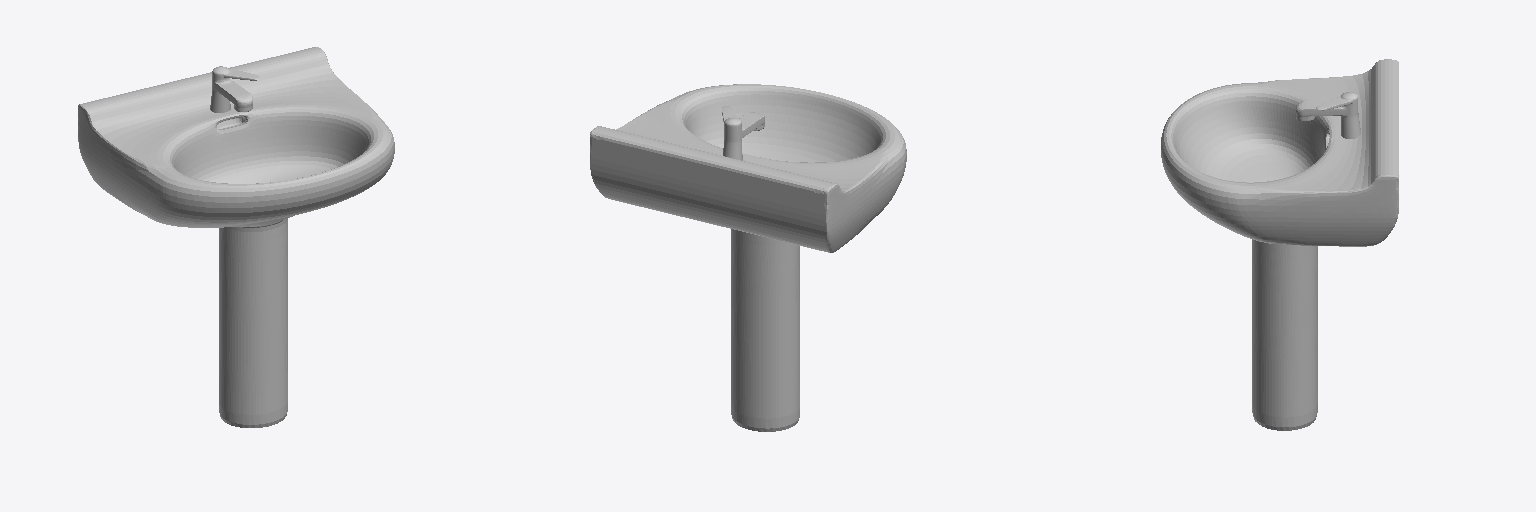
File: sink_02.obj
3 renders of one model, left to right at view 1: azimuth 30°, elevation 25°; view 2: azimuth 150°, elevation 25°; view 3: azimuth 270°, elevation 25°, orthographic.
Bounding box in the file's own units: 126 × 163 × 108.